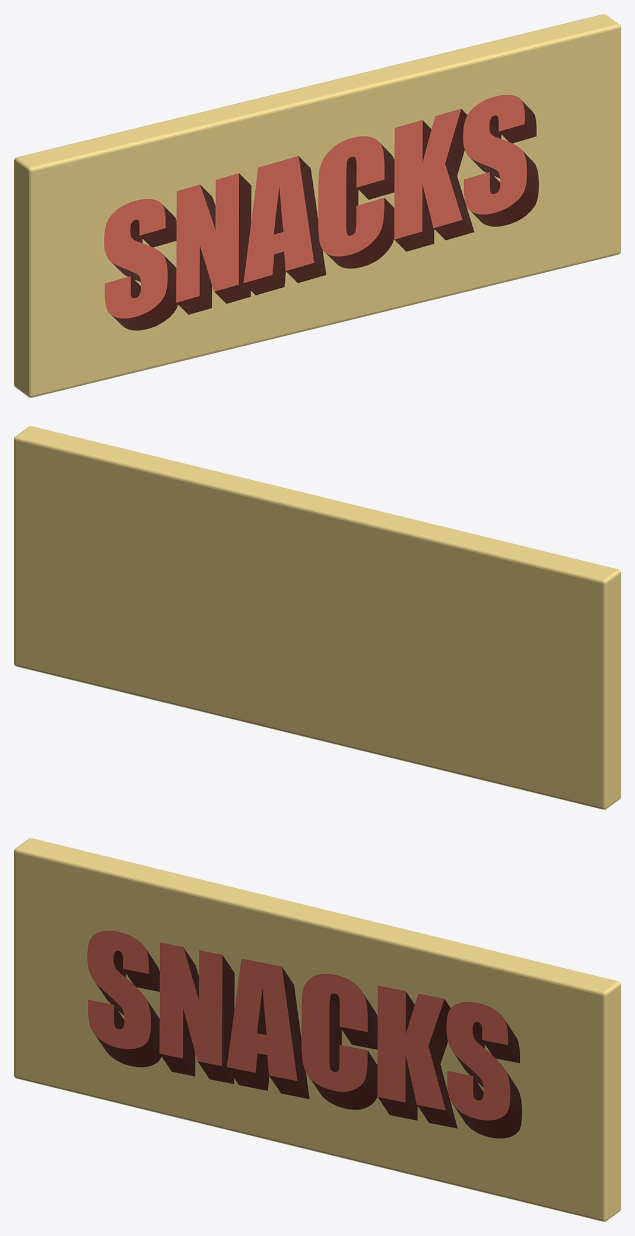
The model's file is snacks.fbx.
3 renders of one model, top to bottom at view 1: azimuth 30°, elevation 25°; view 2: azimuth 150°, elevation 25°; view 3: azimuth 330°, elevation 25°, orthographic.
Parts seen in each view (by area): view 1: snacks; view 2: snacks; view 3: snacks.
Boxes of the visible parts, x1,y1,x2,y2 form: snacks: (14, 14, 620, 397); snacks: (14, 426, 620, 809); snacks: (14, 838, 620, 1221).
Size of the model in its own units: 102 by 38 by 5.
1 material, 1 textured.
